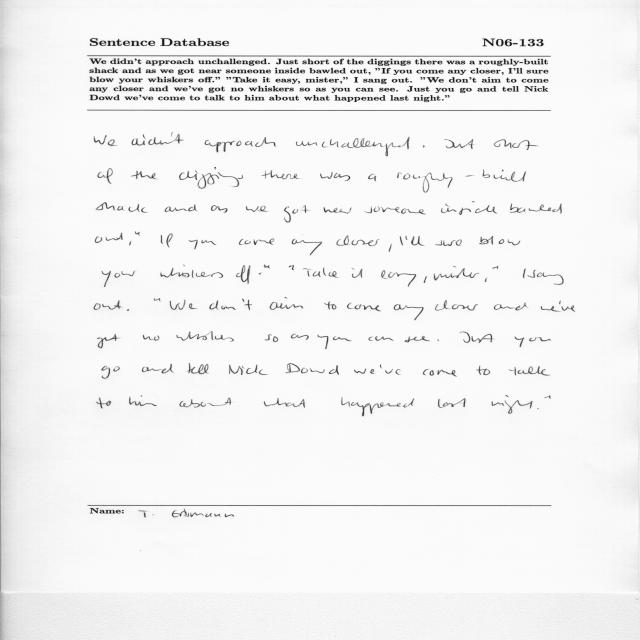word: (397, 169, 526, 193), (296, 137, 410, 156), (179, 167, 243, 189), (342, 397, 415, 416), (204, 137, 276, 152), (161, 265, 224, 278), (441, 201, 497, 215), (492, 396, 533, 414), (131, 133, 184, 146), (176, 331, 234, 342), (286, 363, 339, 375), (434, 266, 479, 280), (381, 270, 416, 287), (96, 202, 148, 213), (510, 203, 562, 214), (528, 270, 564, 285), (102, 271, 135, 287), (179, 398, 231, 408), (210, 298, 253, 310), (292, 239, 322, 256), (364, 207, 426, 215), (494, 139, 538, 150), (394, 305, 424, 321), (318, 335, 352, 349), (284, 205, 310, 223), (269, 297, 303, 310), (337, 236, 380, 246), (509, 366, 551, 376), (264, 398, 305, 408), (229, 365, 268, 375), (541, 301, 575, 312), (514, 337, 551, 347), (479, 236, 520, 245), (460, 332, 493, 343), (303, 268, 338, 278), (262, 170, 299, 179), (142, 364, 174, 374), (129, 395, 157, 406), (98, 334, 119, 348), (445, 139, 474, 149), (95, 233, 123, 243), (94, 300, 122, 310), (438, 398, 466, 408), (347, 303, 381, 311), (423, 369, 457, 377), (320, 172, 350, 181), (189, 240, 216, 250), (170, 300, 197, 310), (236, 265, 250, 284), (164, 204, 197, 212), (494, 303, 527, 311), (94, 135, 117, 146), (98, 168, 113, 184), (102, 366, 120, 379), (188, 363, 209, 374), (239, 239, 274, 245), (131, 171, 157, 179), (380, 365, 400, 375), (406, 236, 425, 246), (323, 207, 352, 213), (161, 234, 173, 248), (435, 240, 462, 246), (452, 304, 478, 310), (404, 336, 430, 342), (435, 300, 449, 311), (97, 398, 111, 409), (246, 206, 268, 212), (368, 336, 394, 341), (477, 366, 491, 375), (211, 205, 227, 212), (352, 268, 363, 278), (291, 334, 309, 340), (265, 334, 278, 342), (354, 369, 374, 374), (324, 302, 336, 310), (143, 335, 159, 341), (368, 174, 376, 181), (523, 269, 526, 279), (400, 236, 403, 245), (289, 265, 294, 270), (389, 244, 392, 252), (493, 265, 499, 269), (154, 298, 160, 302), (424, 276, 427, 283), (544, 396, 551, 399), (135, 232, 140, 236), (264, 265, 270, 268), (485, 277, 487, 282), (129, 241, 131, 245), (259, 273, 262, 275), (423, 146, 425, 148), (127, 309, 129, 311), (437, 340, 439, 342), (537, 408, 539, 409)
